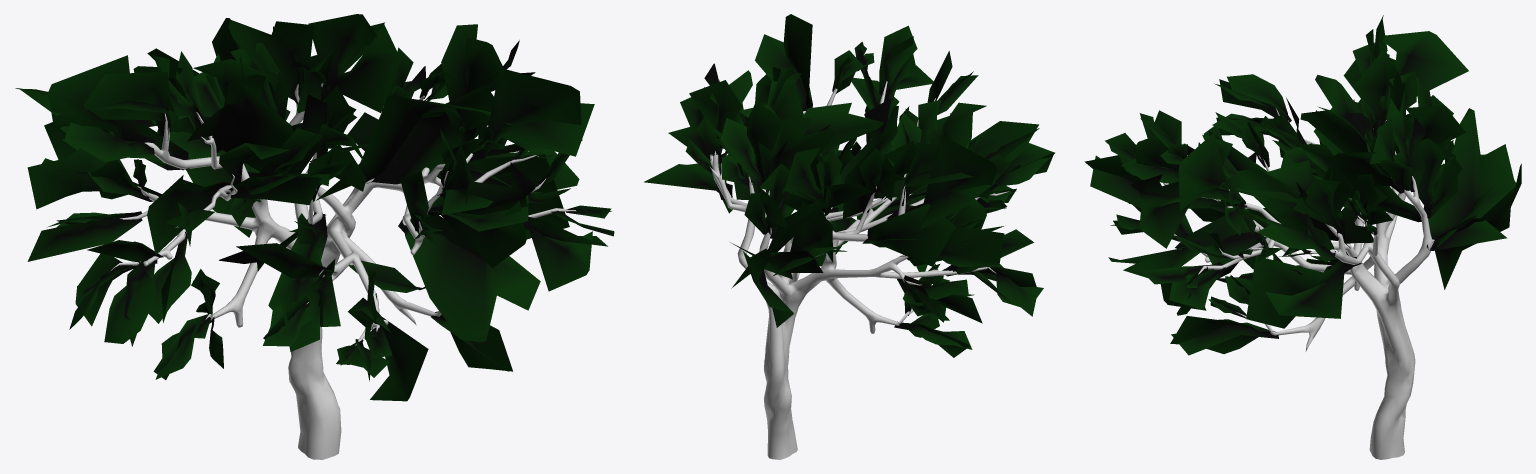
File: Dead Tree_Scene Prop.fbx
3 views of the same model, side by side, from view 1: azimuth 30°, elevation 25°; view 2: azimuth 150°, elevation 25°; view 3: azimuth 270°, elevation 25° (orthographic). The views are drawn at different scales.
Parts seen in each view (by area): view 1: DeadTreeCATAM_A_Leaves_LOD0, DeadTreeCATAM_A_Trunk_LOD0; view 2: DeadTreeCATAM_A_Leaves_LOD0, DeadTreeCATAM_A_Trunk_LOD0; view 3: DeadTreeCATAM_A_Leaves_LOD0, DeadTreeCATAM_A_Trunk_LOD0.
Part boxes in pixels (<box>): DeadTreeCATAM_A_Leaves_LOD0: <box>15,14,614,401</box>; DeadTreeCATAM_A_Trunk_LOD0: <box>111,83,576,459</box>; DeadTreeCATAM_A_Leaves_LOD0: <box>644,14,1054,357</box>; DeadTreeCATAM_A_Trunk_LOD0: <box>709,81,1010,459</box>; DeadTreeCATAM_A_Leaves_LOD0: <box>1084,15,1521,355</box>; DeadTreeCATAM_A_Trunk_LOD0: <box>1163,107,1434,459</box>.
Size of what is drawn, in the model's own units: 12.85 by 11.19 by 12.69.
